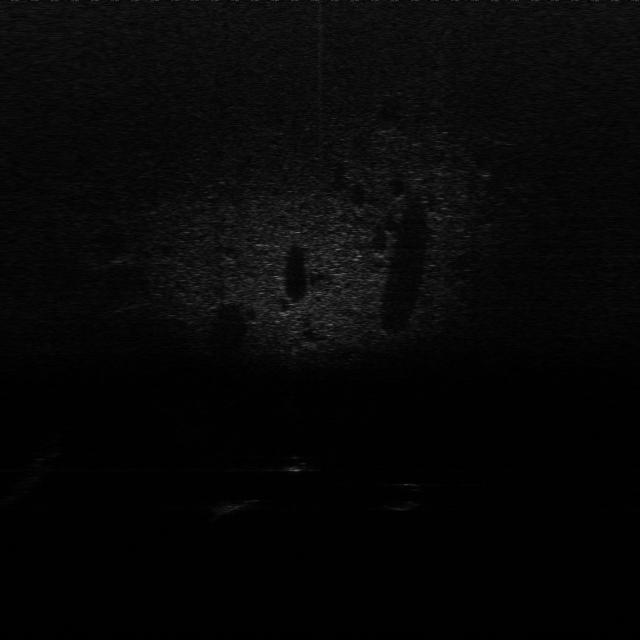ball: (280, 452, 314, 474)
square cage: (207, 490, 267, 518)
tyre: (384, 476, 430, 514)
